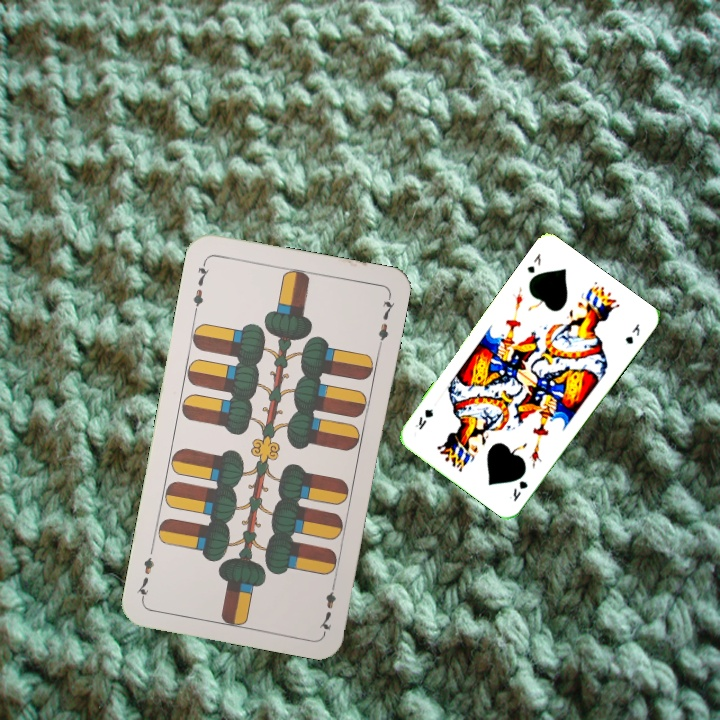E7: (189, 257, 212, 316), (316, 576, 338, 635)
GK: (509, 476, 531, 504), (523, 250, 544, 276)
